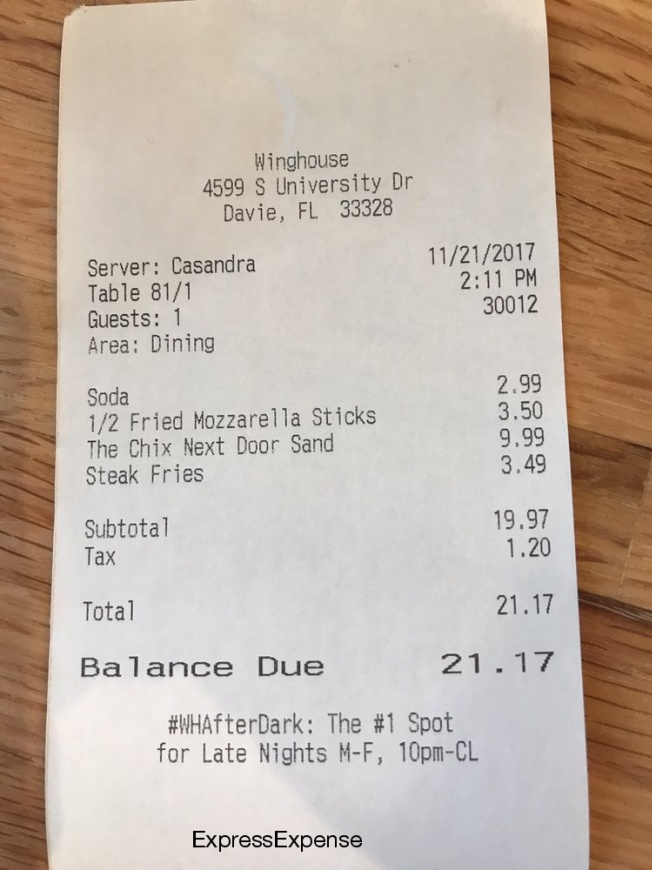Purchase summary: (68, 239, 577, 683)
Receipt: (38, 1, 588, 870), (138, 702, 500, 781)
Shop details: (190, 139, 430, 227)
